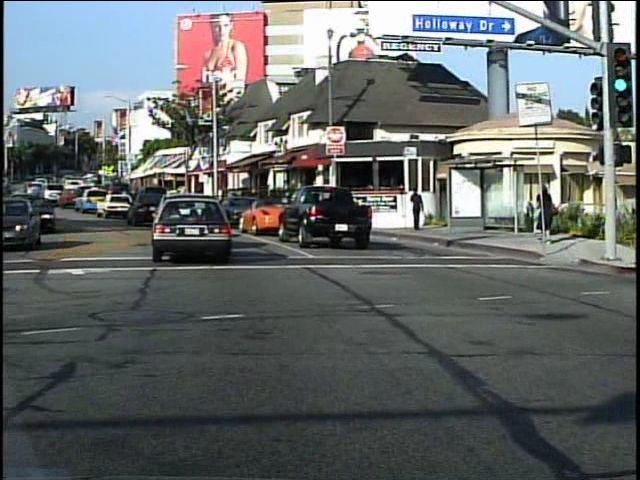person: (535, 181, 560, 249), (409, 186, 427, 235)
